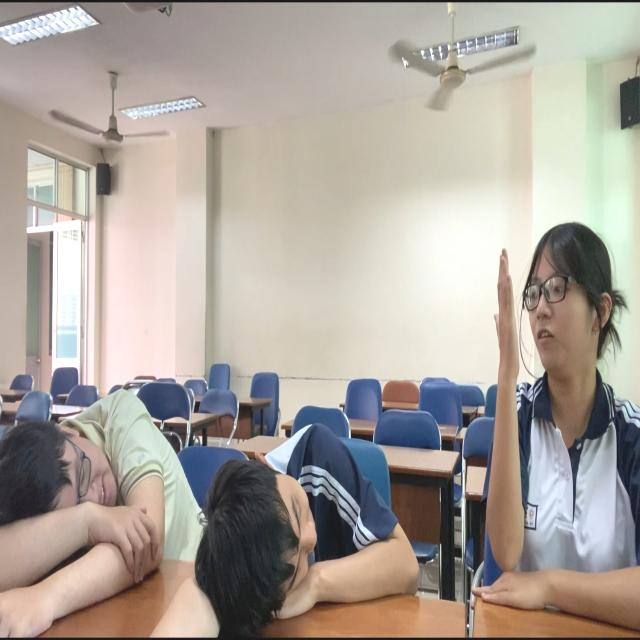raise_hand: (485, 215, 640, 640)
sleep: (1, 371, 224, 640), (202, 386, 428, 640)
